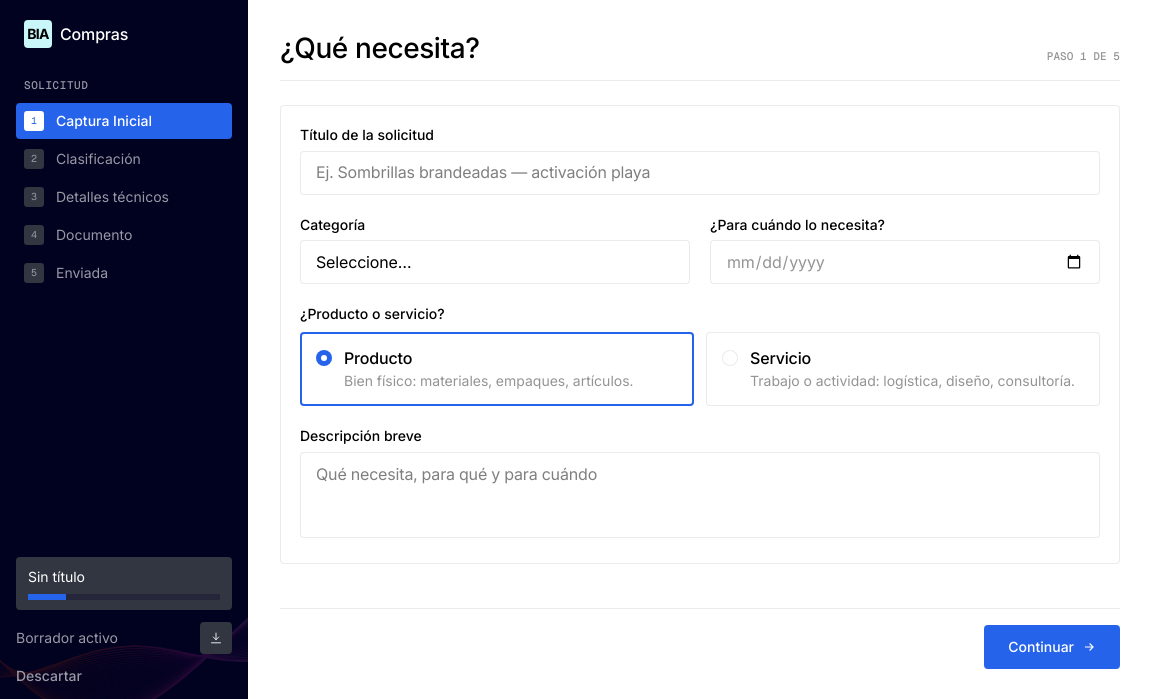
SolicitanteWizard › valida al pulsar Continuar: marca los campos que faltan y no avanza
This screenshot has width=1152, height=699.
Click the button "Continuar". click: (1052, 647)
box: x1=984 y1=625 x2=1120 y2=669
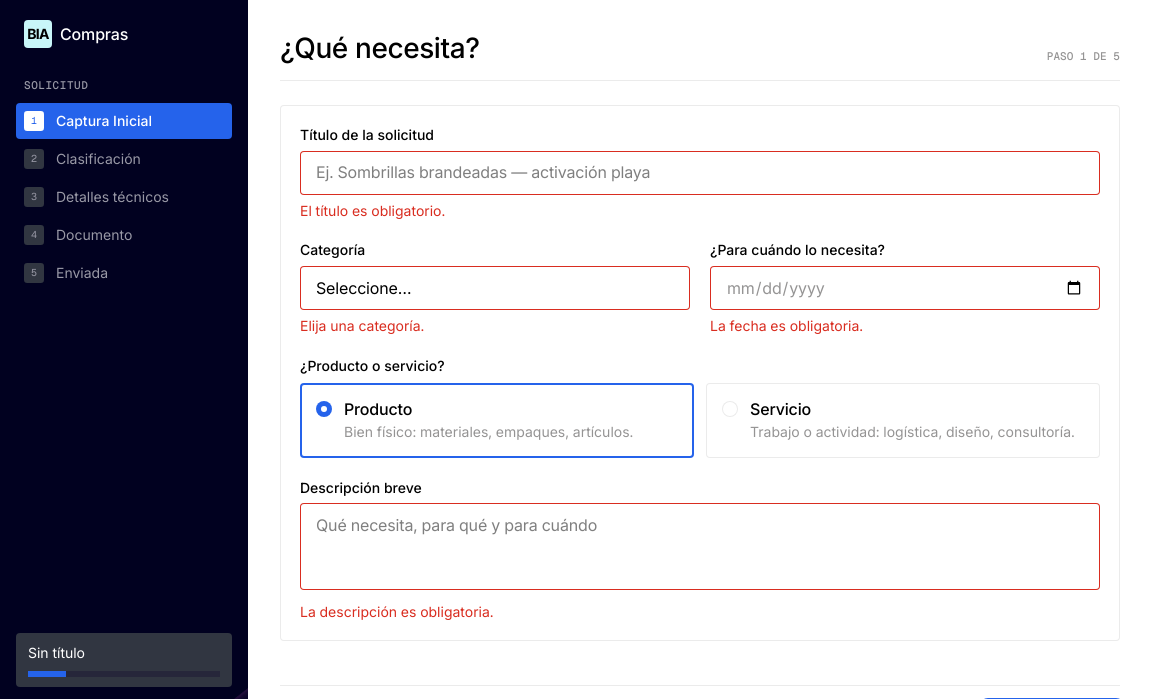
Check: the text "El título es obligatorio." is shown, box x1=300 y1=202 x2=445 y2=219
Check: the text "Elija una categoría." is shown, box x1=300 y1=317 x2=424 y2=334
Check: the text "La fecha es obligatoria." is shown, box x1=710 y1=317 x2=863 y2=334
